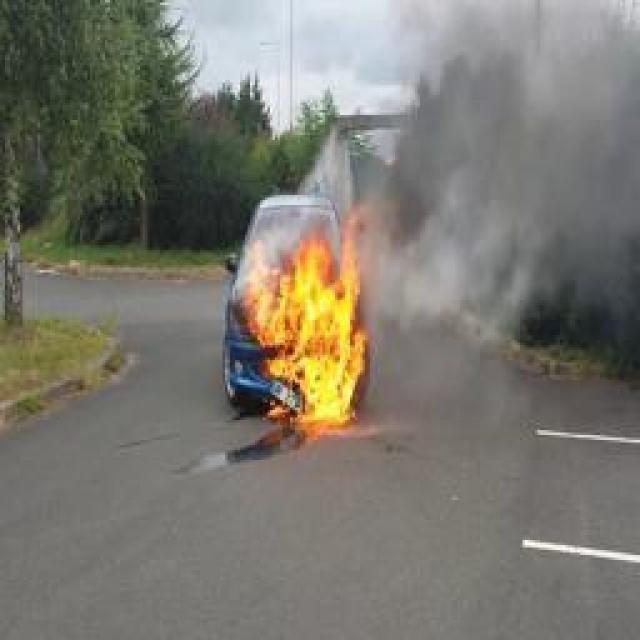Fire: (244, 205, 368, 425)
